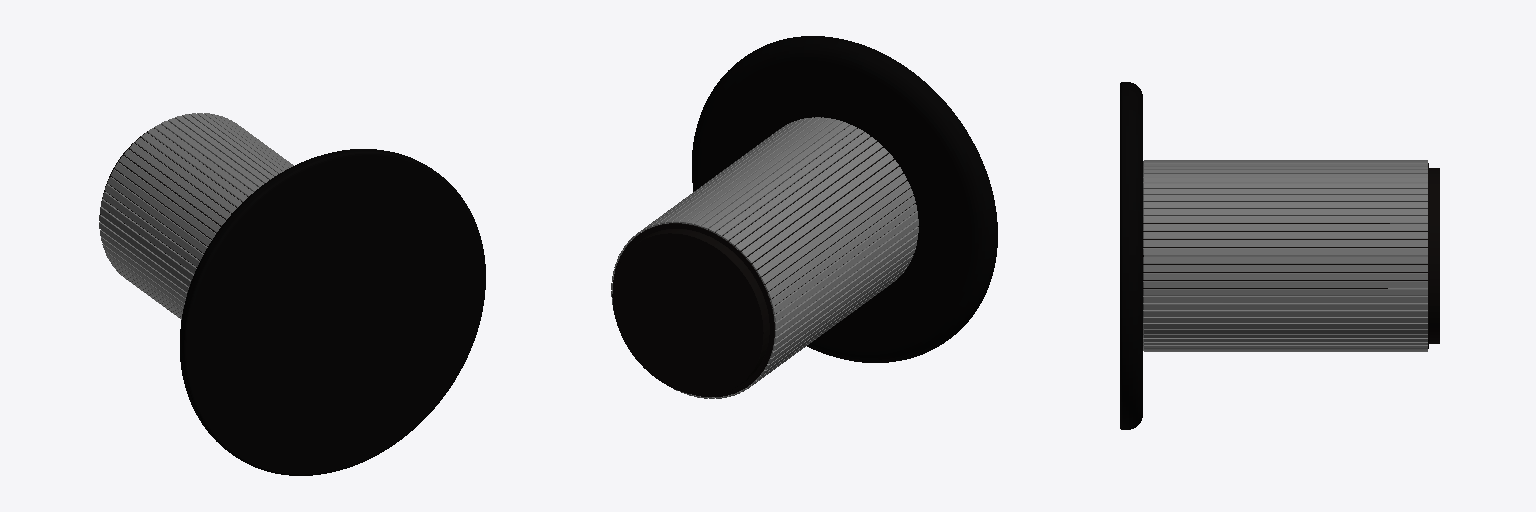
File: Gubi_Moon_Lounge_Table_mat(2).obj
The picture shows the model from 3 angles: view 1: azimuth 30°, elevation 25°; view 2: azimuth 150°, elevation 25°; view 3: azimuth 270°, elevation 25°; orthographic projection.
Visible parts, largest first — view 1: Gubi_Moon_Lounge_Table_mat2; view 2: Gubi_Moon_Lounge_Table_mat2; view 3: Gubi_Moon_Lounge_Table_mat2.
Part boxes in pixels (bbox=[...]): Gubi_Moon_Lounge_Table_mat2: bbox=[99, 113, 485, 475]; Gubi_Moon_Lounge_Table_mat2: bbox=[611, 36, 997, 398]; Gubi_Moon_Lounge_Table_mat2: bbox=[1120, 82, 1439, 429].
Size of the model in its own units: 59.96 by 59.96 by 55.